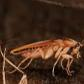cockroach: (8, 36, 82, 62)
